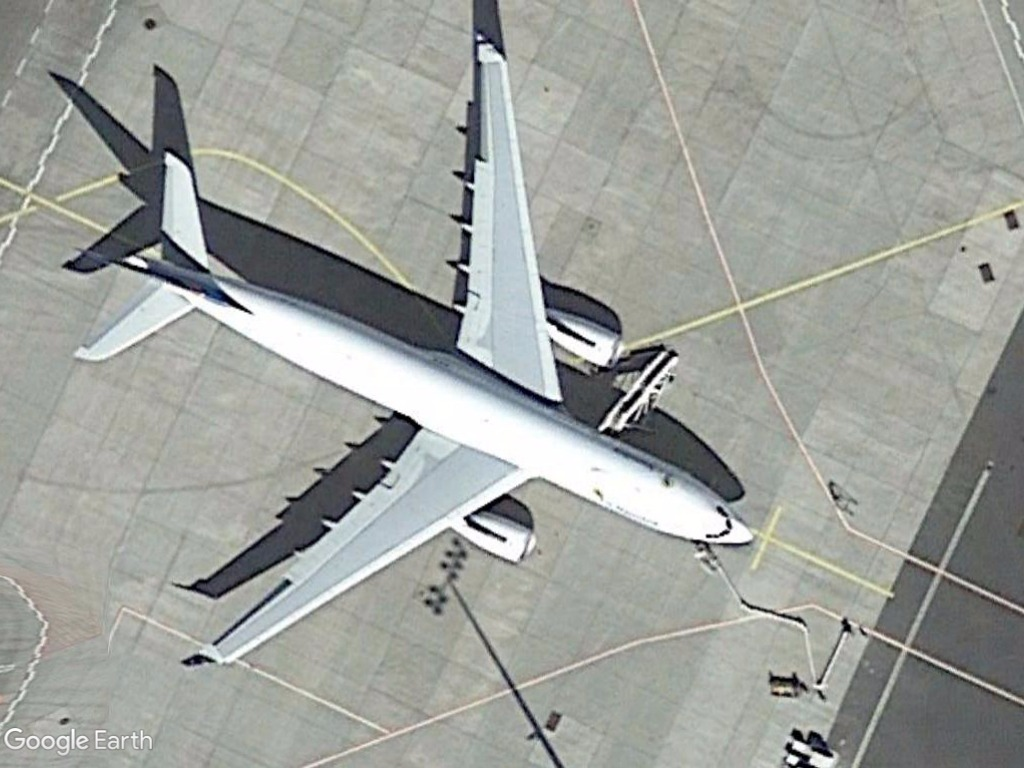airliner: (61, 22, 764, 682)
